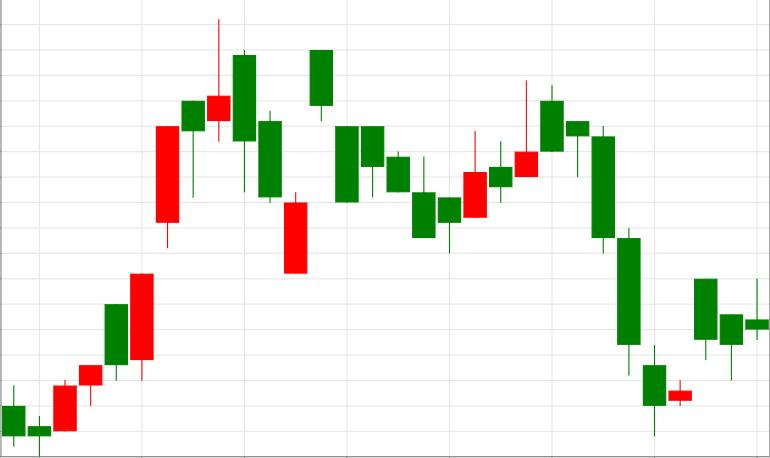hanging_man_fall: (54, 101, 204, 430)
shooting_star_fall: (53, 19, 230, 430), (413, 81, 537, 255)
